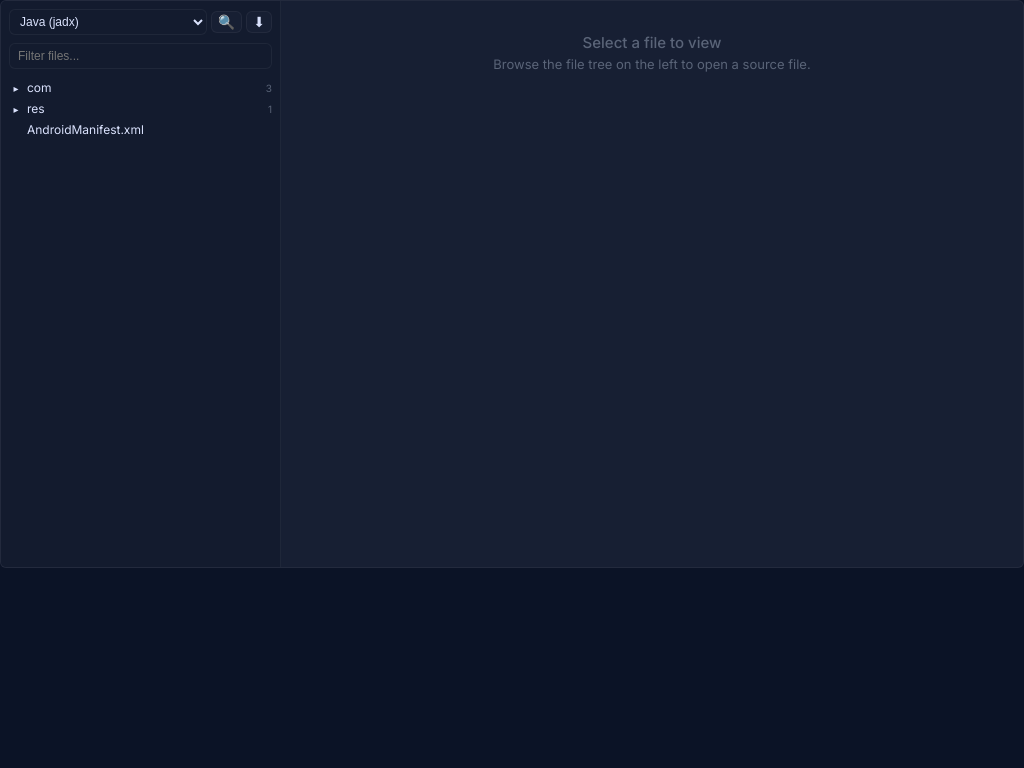
Test case: CodeBrowser › shows empty state after closing last tab
The image size is (1024, 768).
What coordinates should you click on to do the following:
click the list item with test id "tree-file-AndroidManifest.xml"
I would click on:
 (85, 130)
Its box is top-left (27, 122), bottom-right (144, 137).
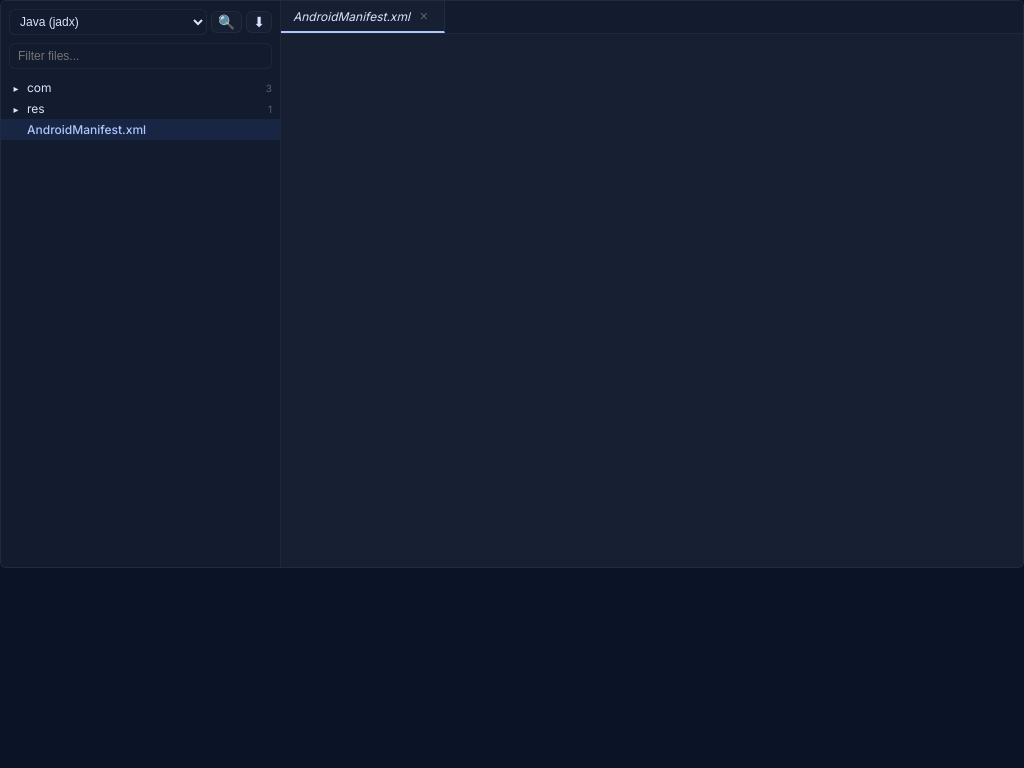
Check: the element with test id "tab-AndroidManifest.xml" is shown, box top-left (281, 1), bottom-right (445, 33)
What coordinates should you click on to do the following:
click the button with test id "tab-close-AndroidManifest.xml"
I would click on:
 (424, 16)
Its box is top-left (416, 8), bottom-right (432, 24).
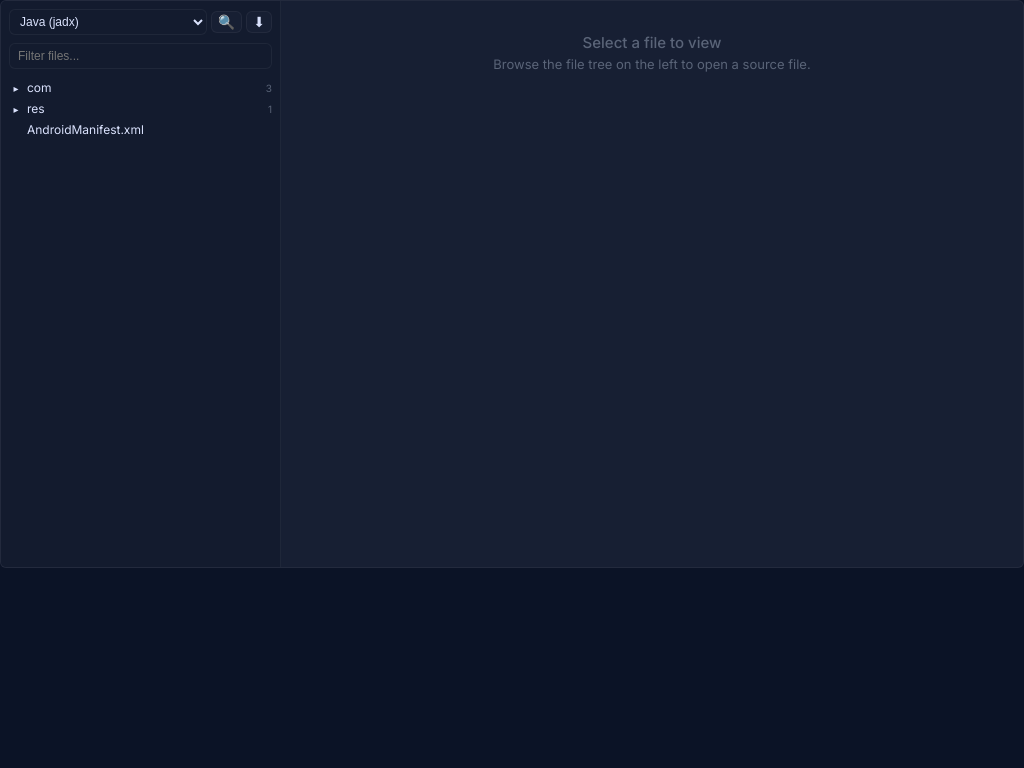
Check: the element with test id "code-browser-empty" is shown, box top-left (493, 33), bottom-right (811, 72)
